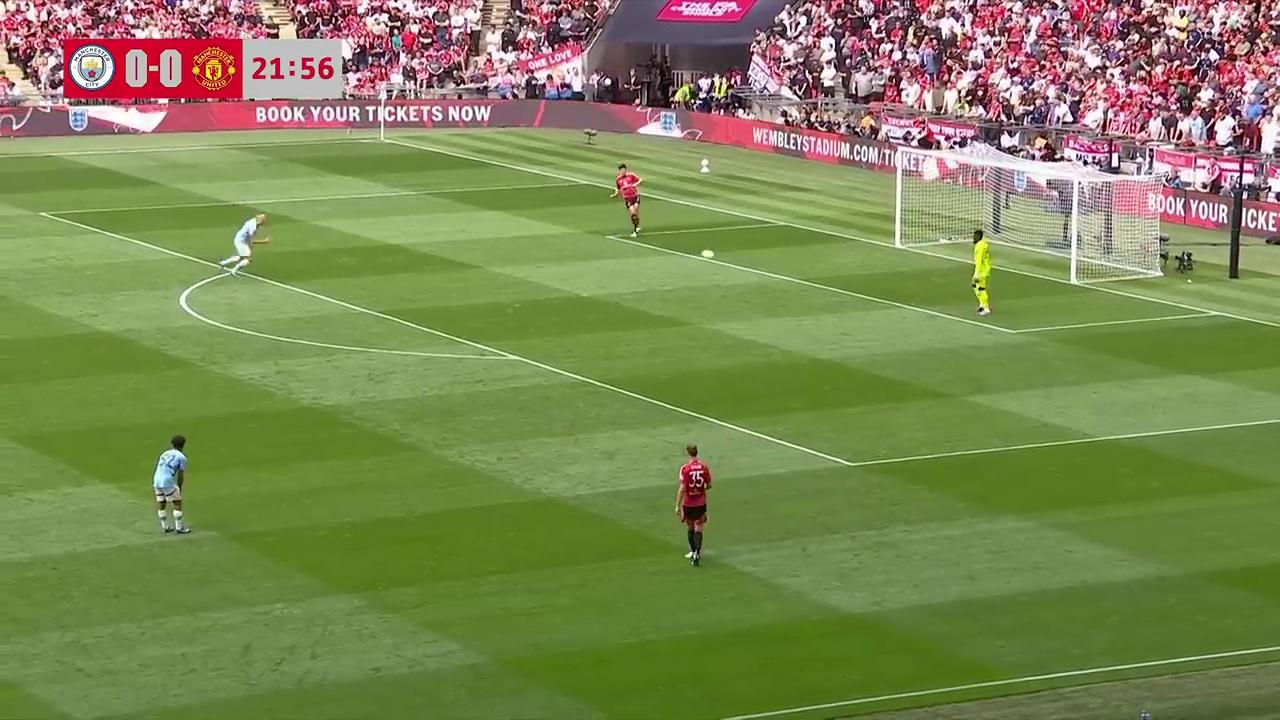ball: (699, 247, 716, 261)
player: (674, 443, 712, 567), (153, 433, 190, 534), (609, 164, 648, 244), (229, 208, 272, 277), (970, 231, 992, 314)
